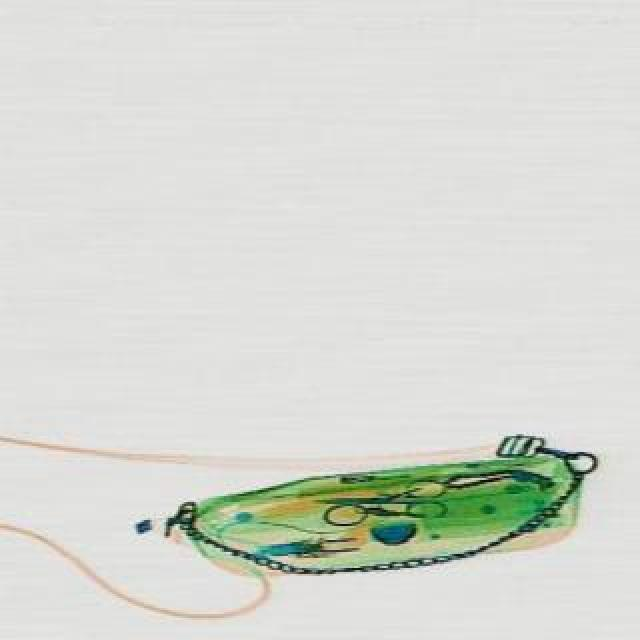pliers: (310, 476, 442, 520)
